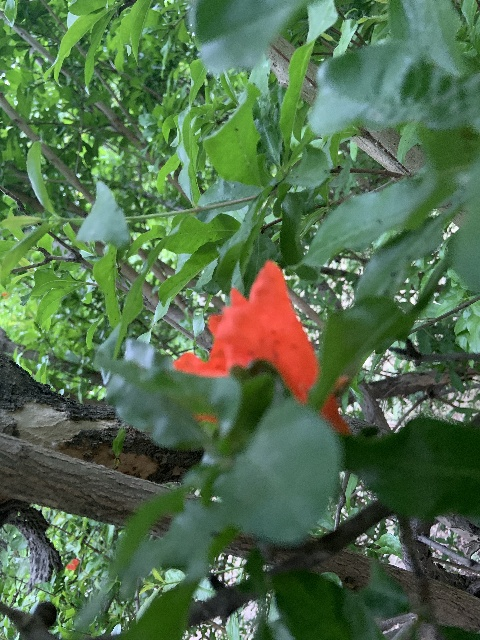flower: (172, 259, 349, 432), (65, 557, 79, 572)
